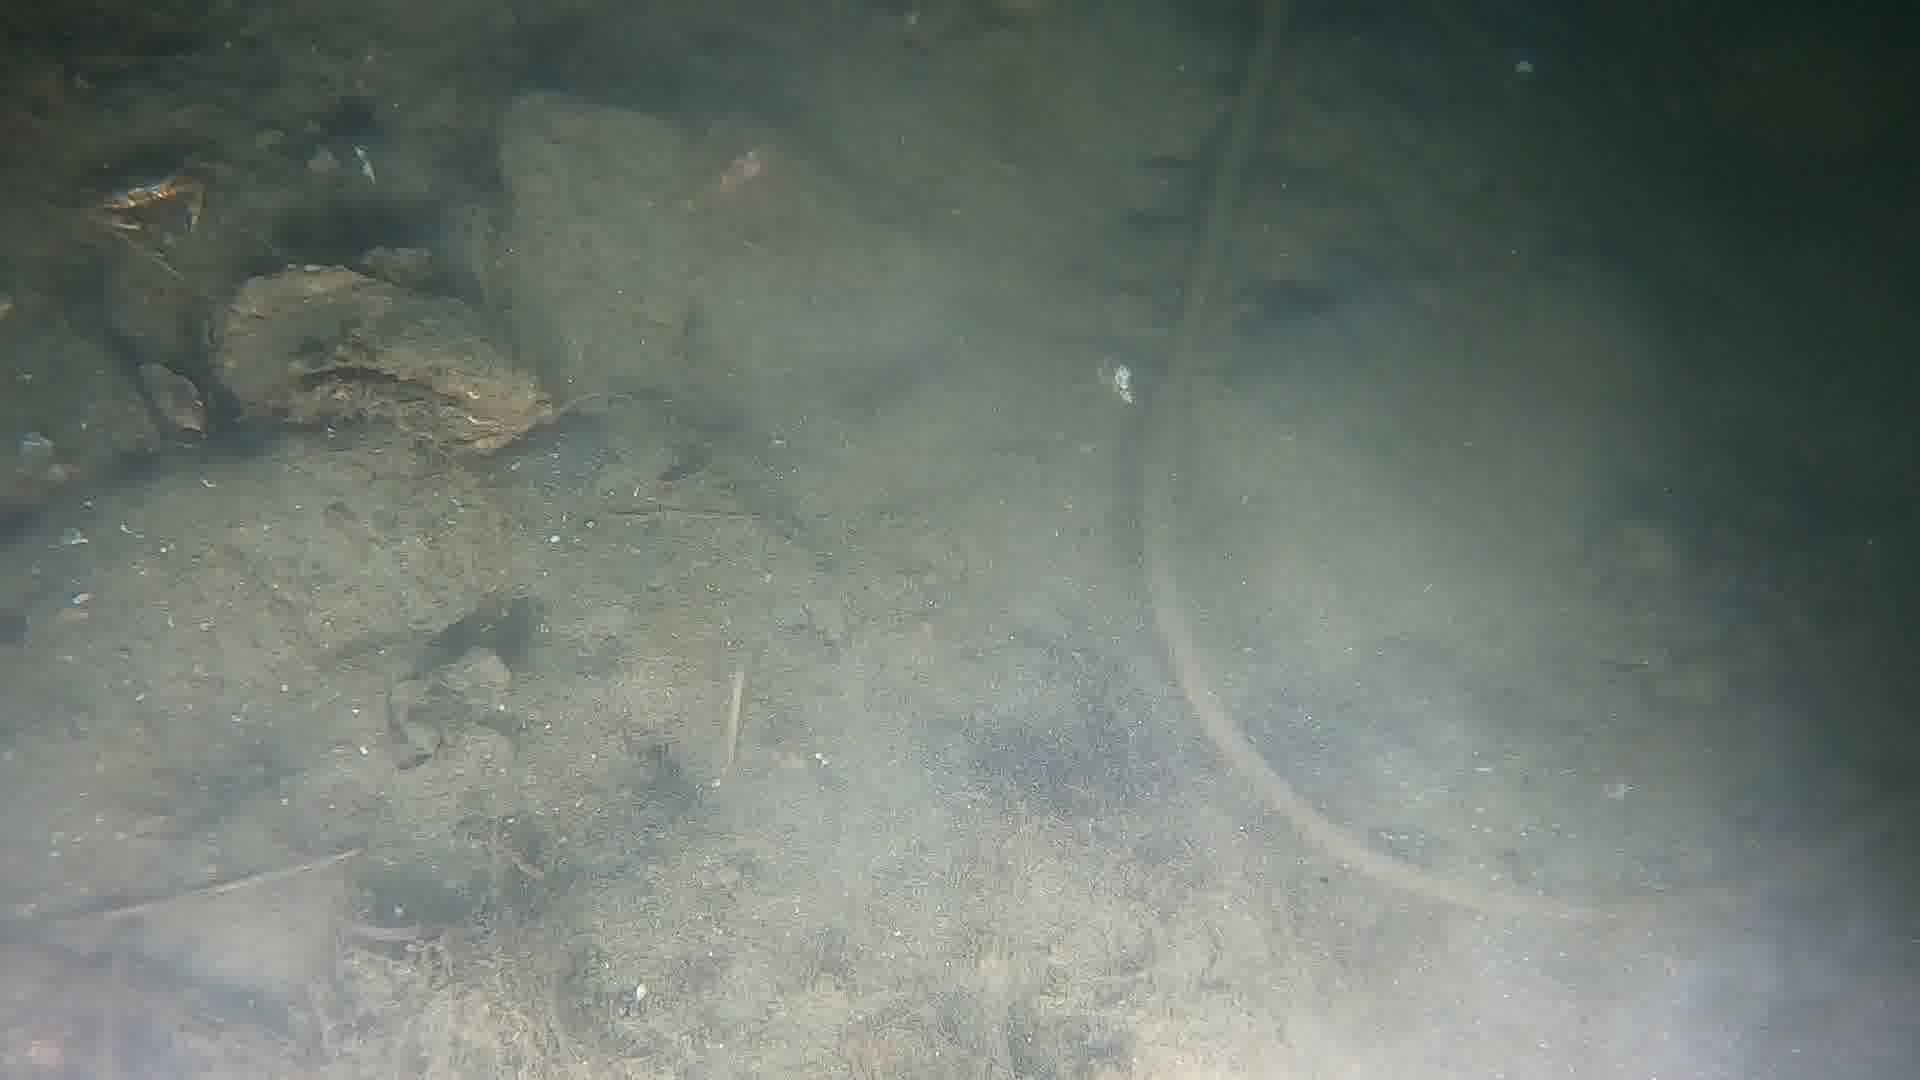rope: (1138, 0, 1920, 920)
